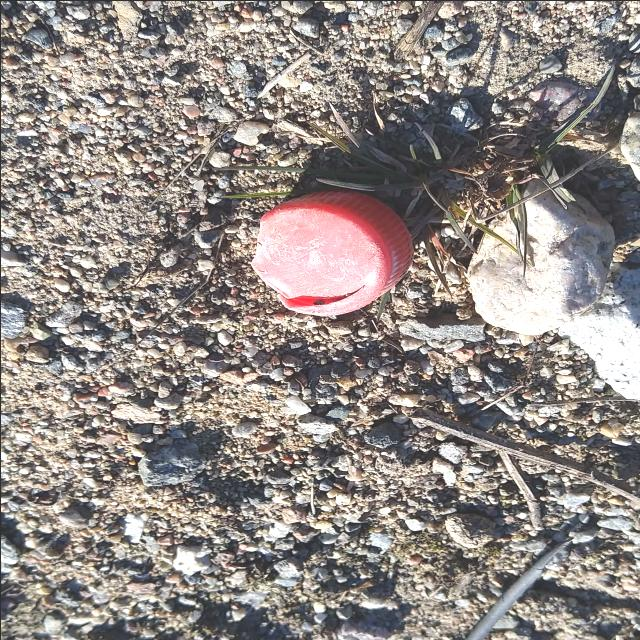Plastic bottle cap: (250, 190, 412, 315)
